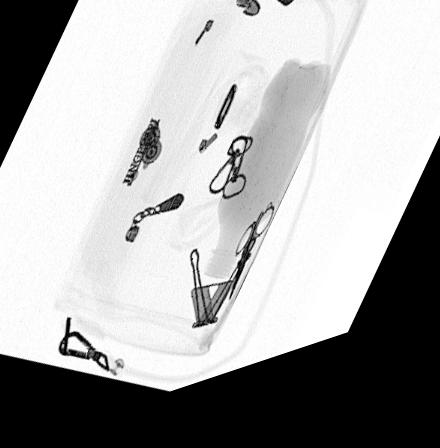Scissors: (225, 218, 275, 317)
